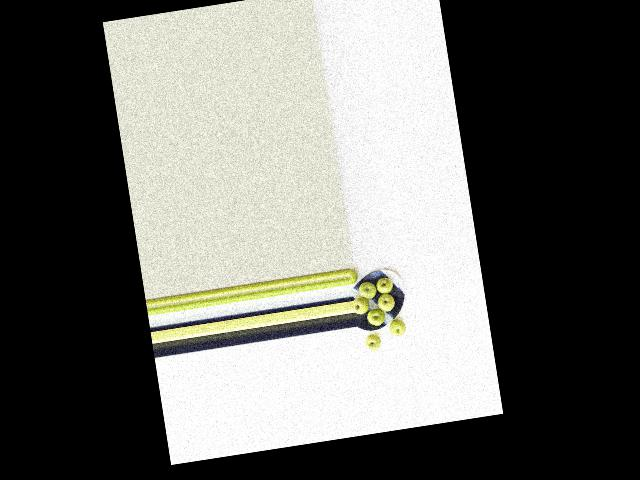apple: (375, 276, 395, 295)
